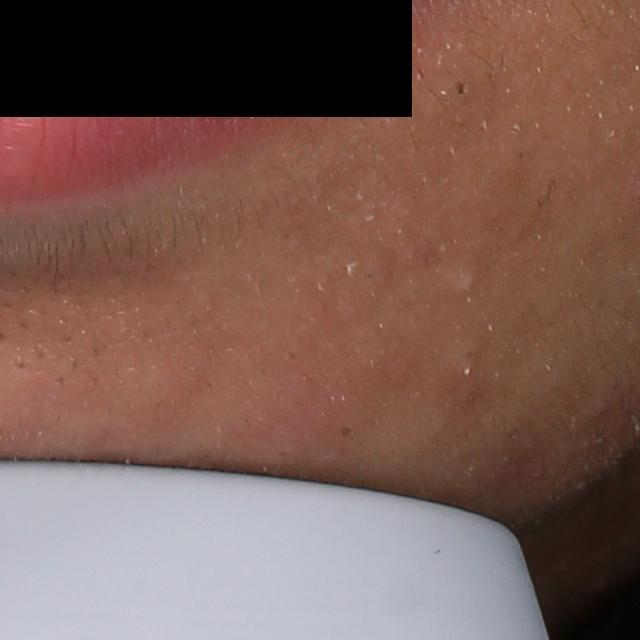comedo: (452, 269, 478, 301)
